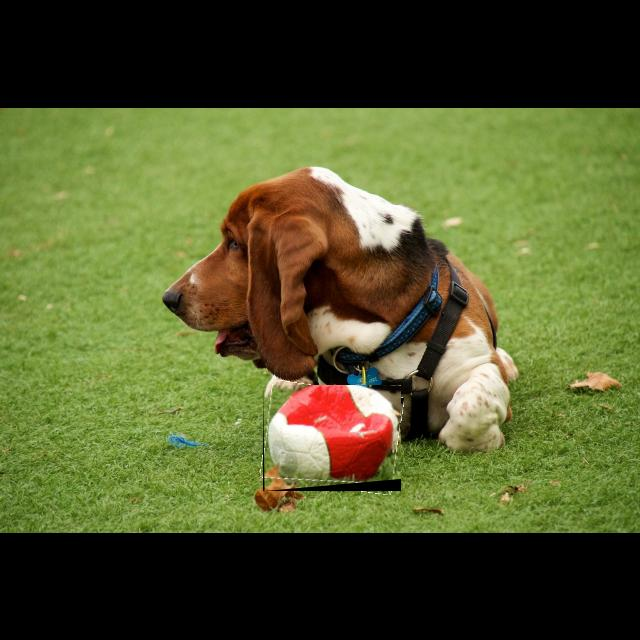Football: (263, 385, 401, 491)
